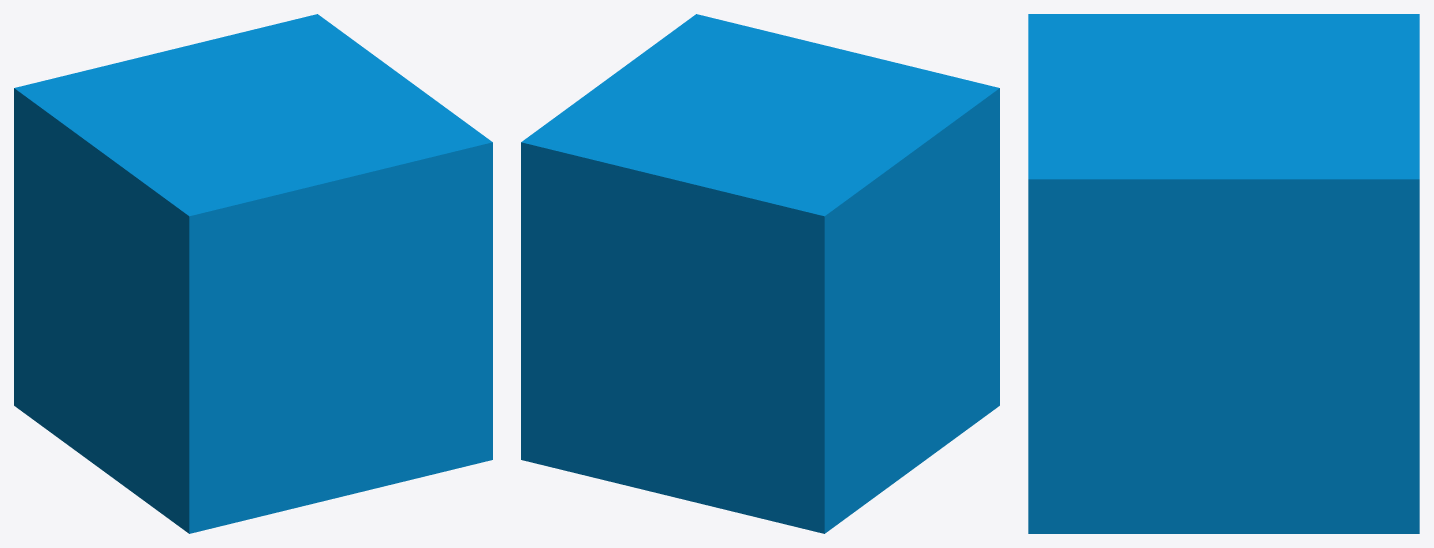
File: Cubo_Agua.glb
The picture shows the model from 3 angles, left to right: view 1: azimuth 30°, elevation 25°; view 2: azimuth 150°, elevation 25°; view 3: azimuth 270°, elevation 25°; orthographic projection. The views are drawn at different scales.
Parts seen in each view (by area): view 1: Cube; view 2: Cube; view 3: Cube.
Boxes of the visible parts, <box> form: Cube: <box>14,14,492,533</box>; Cube: <box>521,14,999,533</box>; Cube: <box>1028,14,1419,533</box>.
Bounding box in the file's own units: 2 × 2 × 2.
